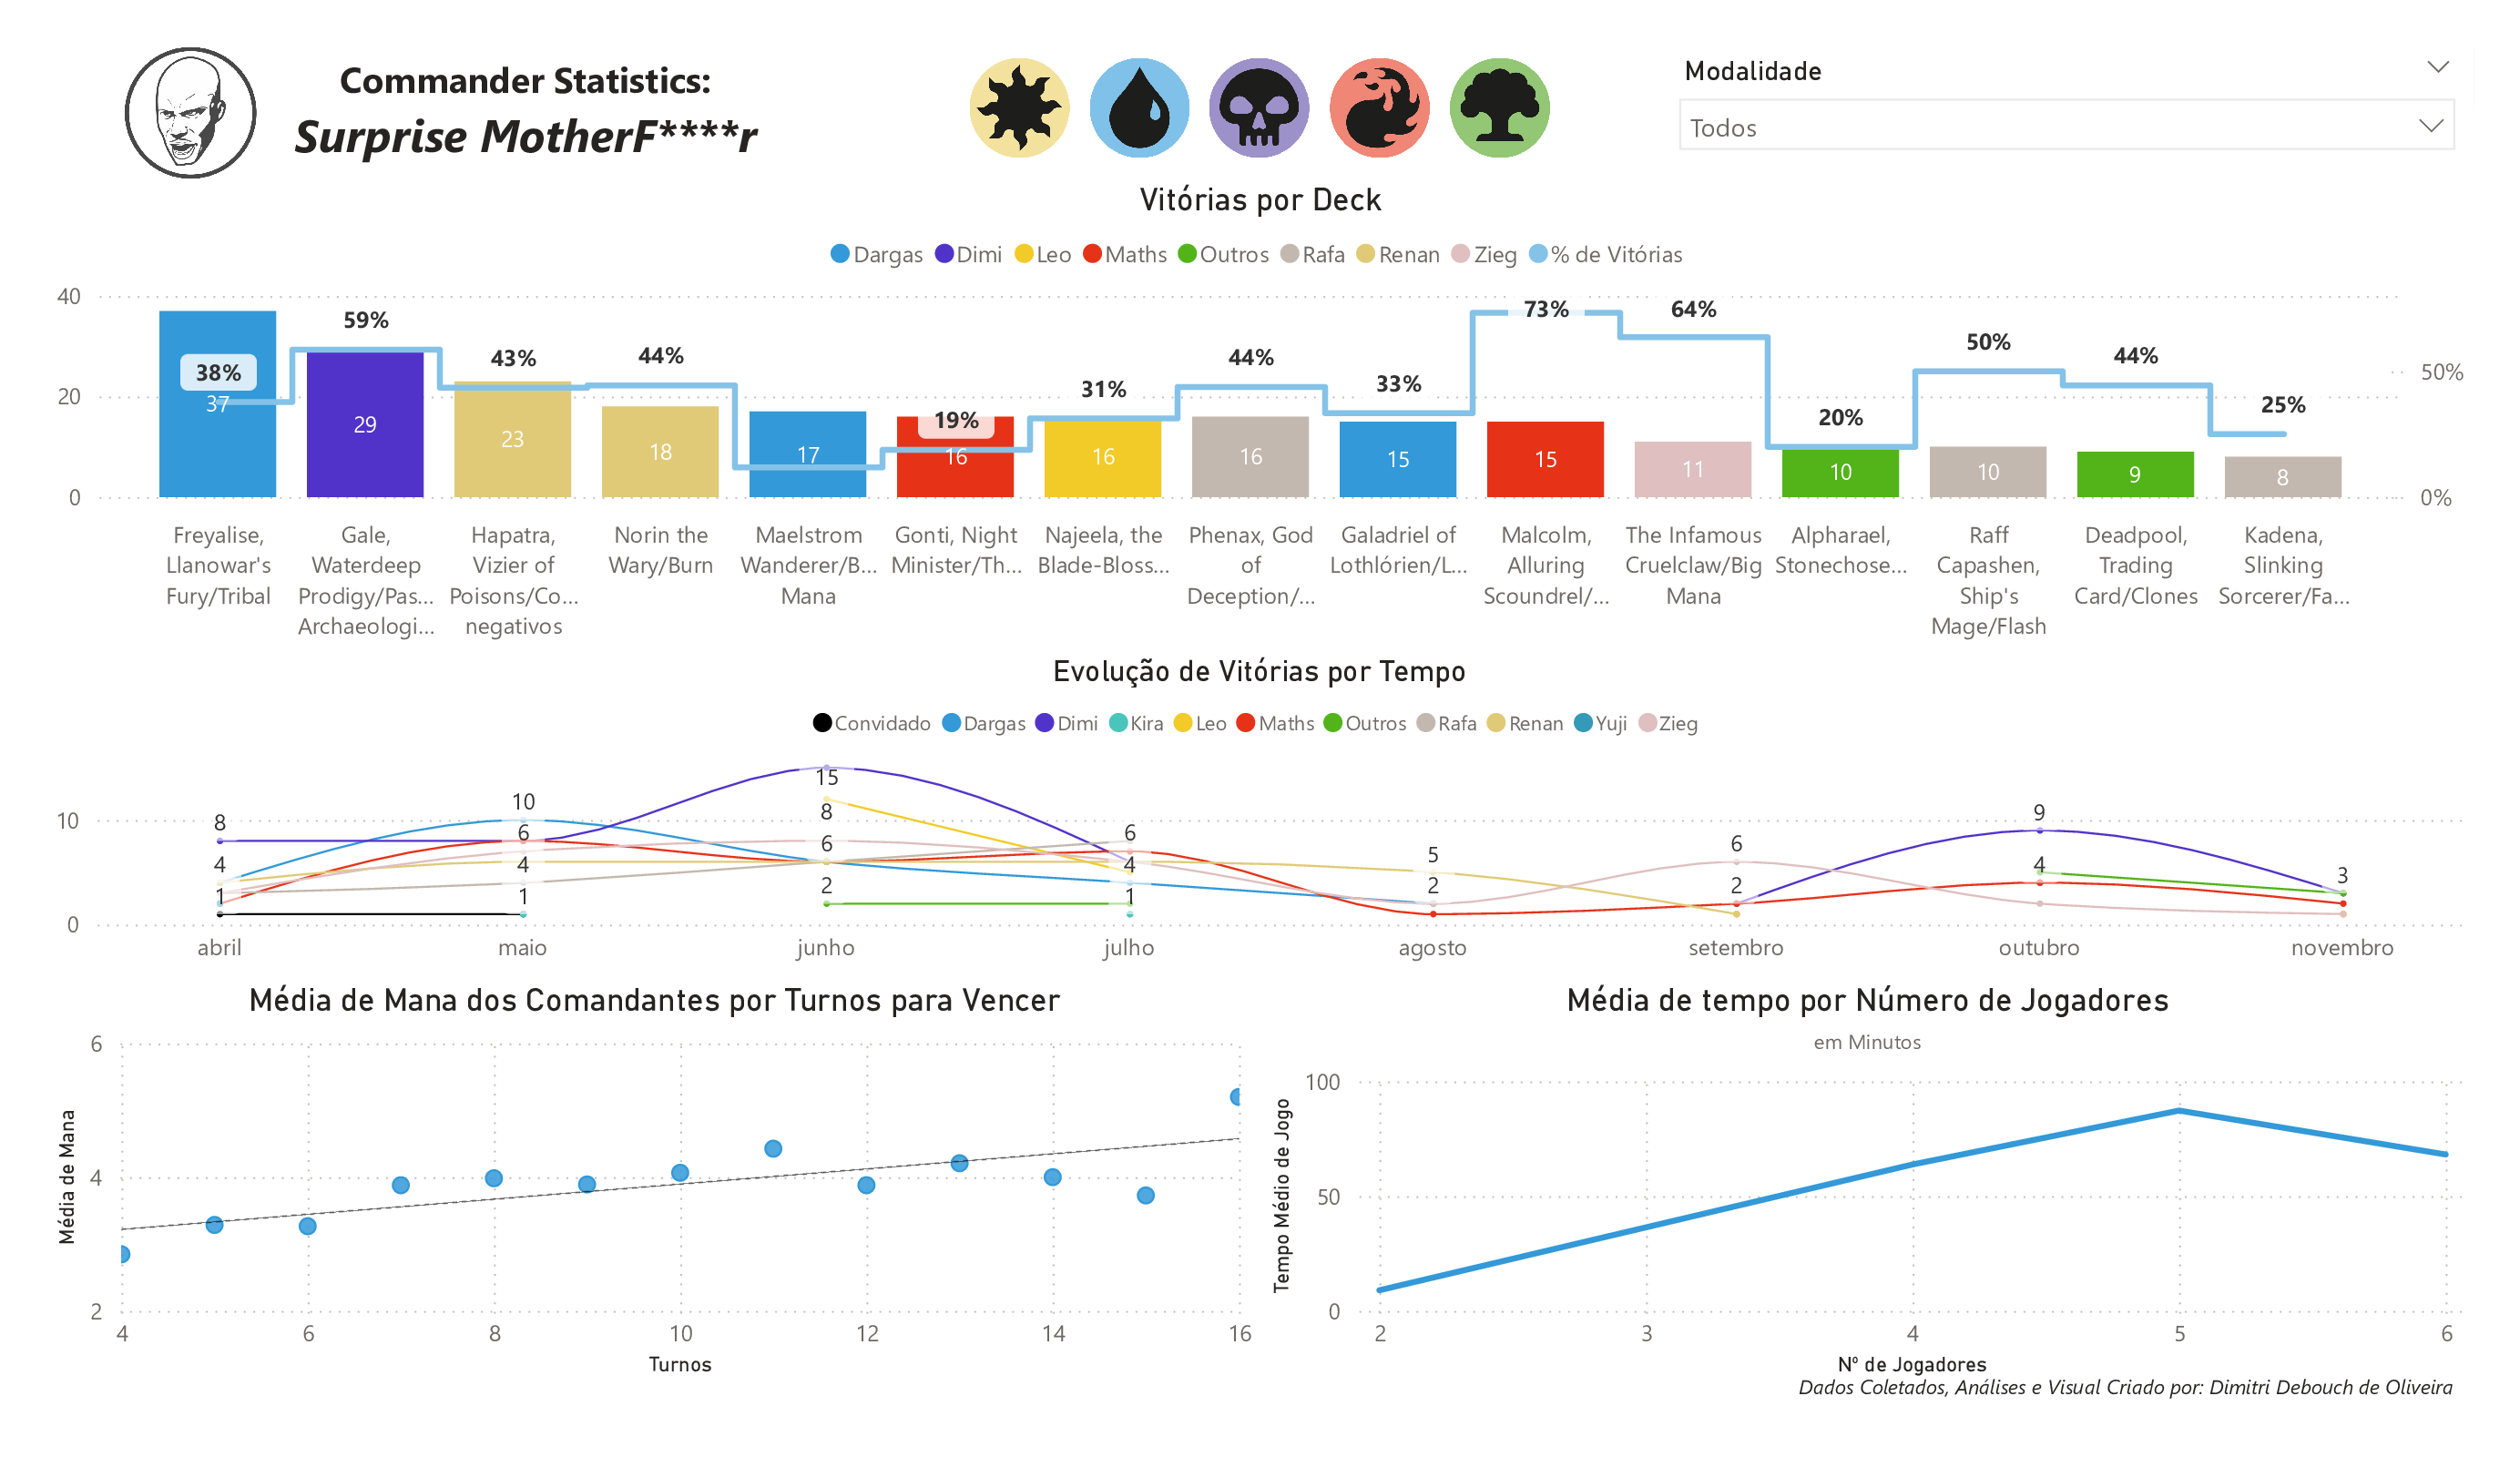

Layout of this report page (visuals, bound fields, positions):
{"tool":"powerbi","page":{"name":"Visão de Desempenho","canvas":[1280,720],"ordinal":1},"visuals":[{"type":"textbox","box":[76.8,0,352,71.3],"z":0},{"type":"image","box":[428.8,0,422.7,71.3],"z":1000},{"type":"slicer","title":"Modalidade","fields":{"Values":["Jogos.Modo_jogo"]},"box":[851.5,0,428.2,71.3],"z":2000},{"type":"image","box":[35.6,0,81.7,71.3],"z":3000},{"type":"lineStackedColumnComboChart","title":"Vitórias por Deck","fields":{"Category":["Deck.deck_name"],"Series":["Jogadores.Nome_jogador"],"Y":["CountNonNull(Participação.Venceu? Condicionada)"],"Y2":["Deck.Winrates"]},"box":[0.6,71.3,1279.7,250],"z":4000},{"type":"scatterChart","title":"Média de Mana dos Comandantes por Turnos para Vencer","fields":{"X":["Participação.Turnos"],"Y":["Avg(Commander_card.mana_value)"]},"box":[0.6,492.7,640.8,213.8],"z":5000},{"type":"lineChart","title":"Evolução de Vitórias por Tempo","fields":{"Category":["Jogos.Data.Variation.Hierarquia de datas.Mês"],"Series":["Jogadores.Nome_jogador"],"Y":["CountNonNull(Participação.venceu?)"]},"box":[0,320.1,1280.3,172.6],"z":6000},{"type":"lineChart","title":"Média de tempo por Número de Jogadores","fields":{"Category":["Jogos.num_jogadores"],"Y":["Participação.Média de tempo por jogo"]},"box":[640.8,492.7,639.5,213.8],"z":7000},{"type":"textbox","box":[918.8,692.4,361.2,27.6],"z":8000}]}

Visuals, with their boxes on the page's 1280x720 design canvas (x1, y1, x2, y2). These are canvas units, not pixel positions in the 2520x1457 screenshot, which may show the page scaled, cropped or inside an application window:
textbox: bbox=[77, 0, 429, 71]
image: bbox=[429, 0, 852, 71]
"Modalidade" slicer: bbox=[852, 0, 1280, 71]
image: bbox=[36, 0, 117, 71]
"Vitórias por Deck" lineStackedColumnComboChart: bbox=[1, 71, 1280, 321]
"Média de Mana dos Comandantes por Turnos para Vencer" scatterChart: bbox=[1, 493, 641, 706]
"Evolução de Vitórias por Tempo" lineChart: bbox=[0, 320, 1280, 493]
"Média de tempo por Número de Jogadores" lineChart: bbox=[641, 493, 1280, 706]
textbox: bbox=[919, 692, 1280, 720]
